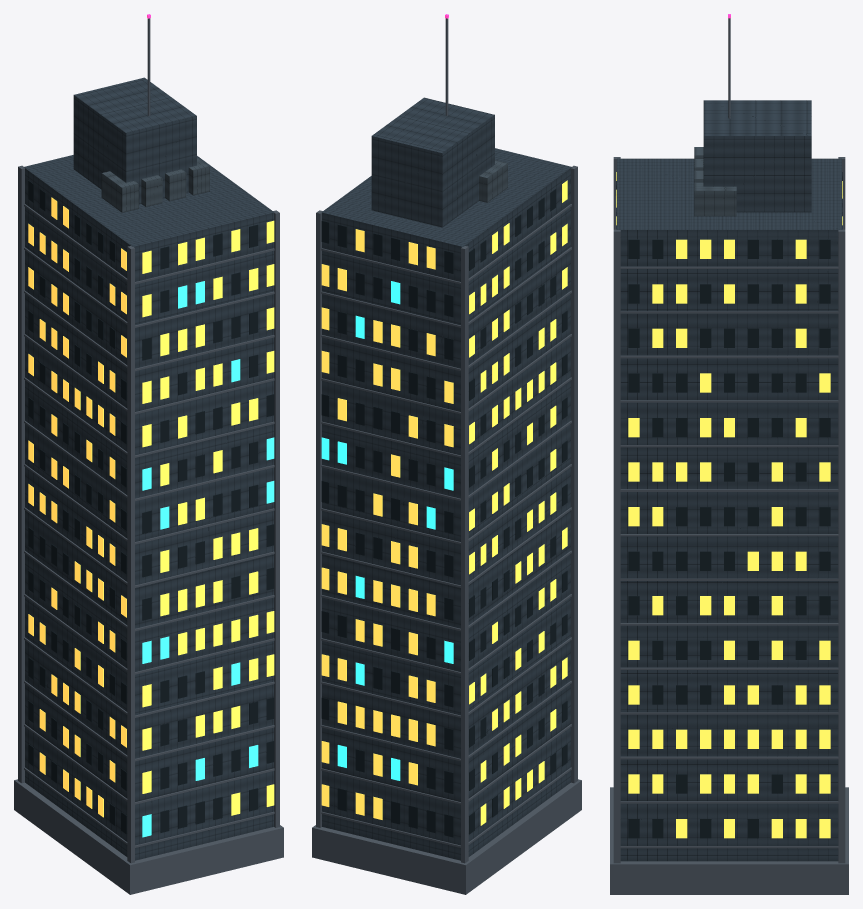
File: tower-habitat.glb
3 views of the same model, side by side, from view 1: azimuth 30°, elevation 25°; view 2: azimuth 150°, elevation 25°; view 3: azimuth 270°, elevation 25° (orthographic). The views are drawn at different scales.
Visible parts, largest first — view 1: tower-habitat; view 2: tower-habitat; view 3: tower-habitat.
Boxes of the visible parts, bbox=[...] form: tower-habitat: bbox=[14, 14, 283, 894]; tower-habitat: bbox=[312, 14, 581, 894]; tower-habitat: bbox=[610, 14, 848, 894].
Size of the model in its own units: 13 by 66.12 by 17.
Materials: 7 (2 with a texture image).
